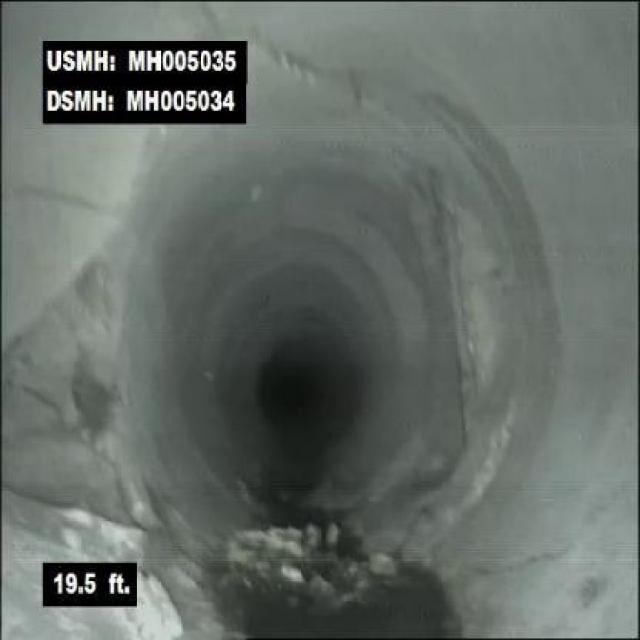Buckling: (254, 26, 366, 105)
Crack: (449, 548, 569, 583)
Debris: (229, 517, 402, 612)
